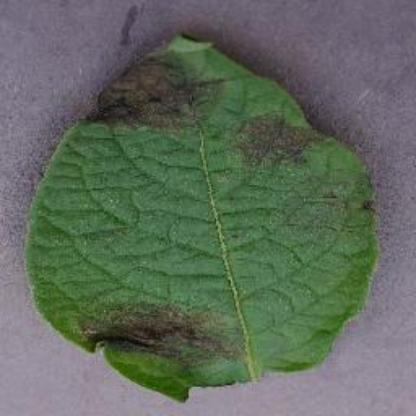Late-Blight: (6, 24, 388, 396)
